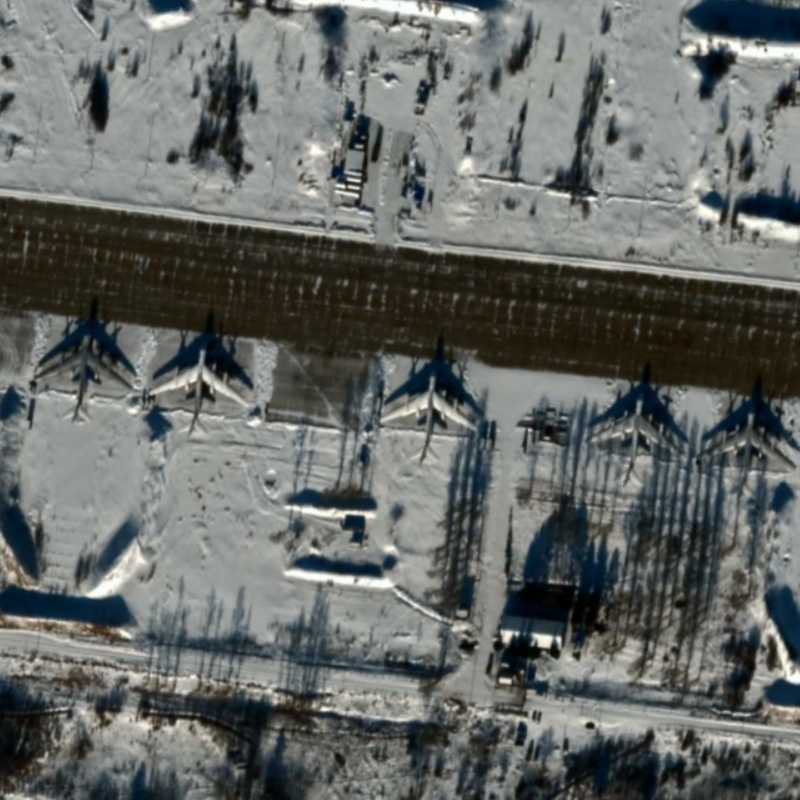A17: (377, 368, 480, 466), (148, 343, 250, 441), (32, 329, 134, 426), (585, 390, 683, 490), (693, 410, 798, 501)
